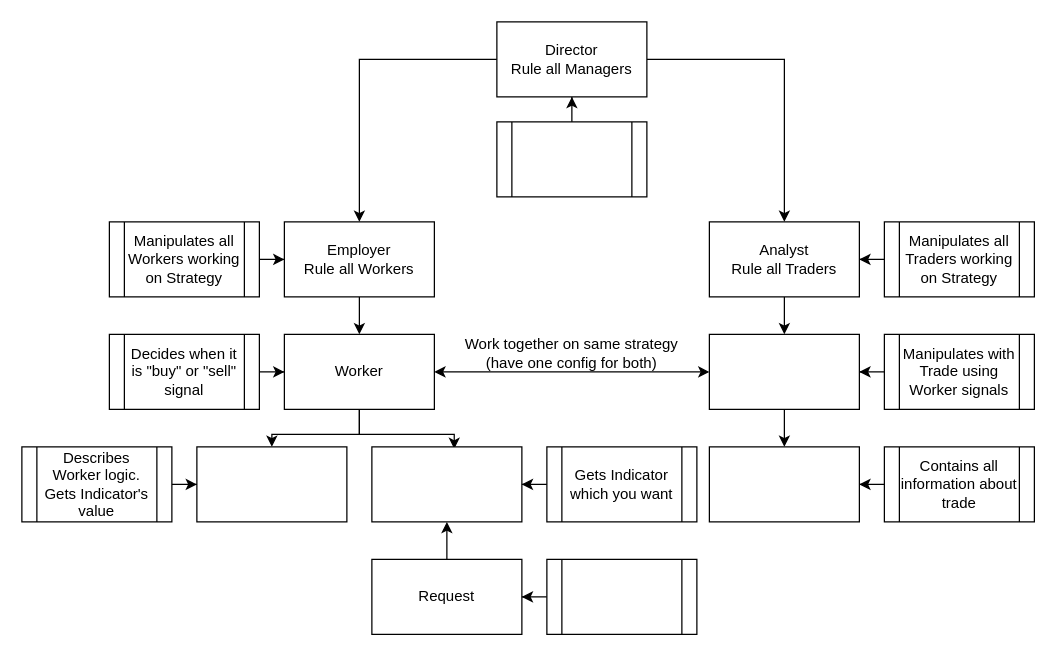
This 1056x656 diagram has some shape labels left out. Each missing label, with the box of its shape:
Indicator: (371, 446, 522, 522)
JSON Requests to taapi.io: (546, 558, 697, 634)
Makes pair Worker-Trader and run them: (496, 121, 647, 197)
Strategy: (196, 446, 347, 522)
Trade: (708, 446, 859, 522)
Trader: (708, 333, 859, 409)
